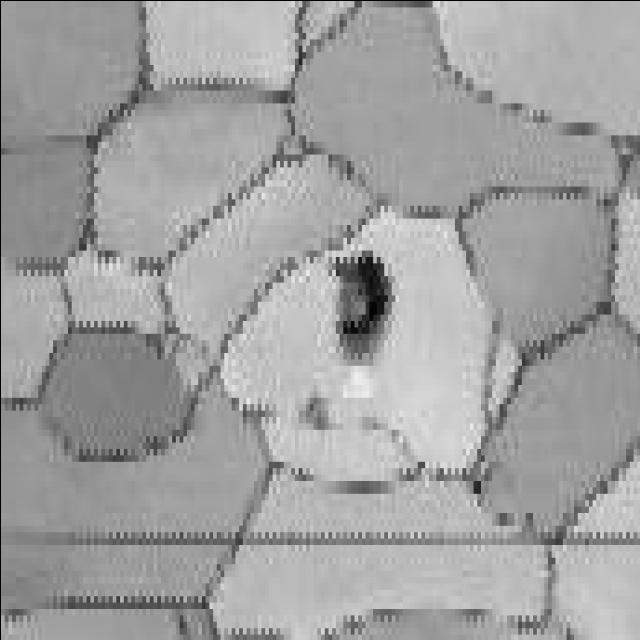good_void: (328, 251, 393, 364)
